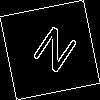N: (25, 25, 80, 82)
